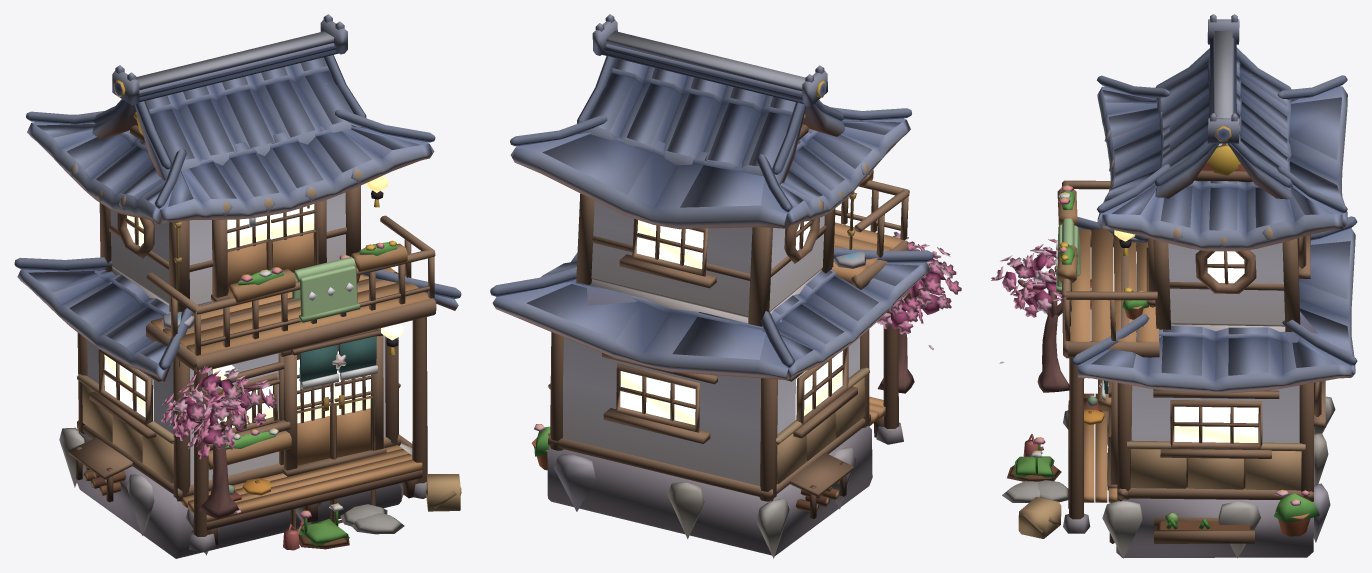
The model's file is home-3-v7.glb.
3 renders of one model, left to right at view 1: azimuth 30°, elevation 25°; view 2: azimuth 150°, elevation 25°; view 3: azimuth 270°, elevation 25°, orthographic. The views are drawn at different scales.
Visible parts, largest first — view 1: home-3-v7, window_glow; view 2: home-3-v7, window_glow; view 3: home-3-v7, window_glow.
Boxes of the visible parts, x1=… form: home-3-v7: x1=14, y1=14, x2=461, y2=558; window_glow: x1=104, y1=175, x2=403, y2=427; home-3-v7: x1=490, y1=14, x2=961, y2=558; window_glow: x1=620, y1=220, x2=842, y2=424; home-3-v7: x1=991, y1=14, x2=1357, y2=558; window_glow: x1=1090, y1=230, x2=1258, y2=442.
Bounding box in the file's own units: 3.35 × 4.62 × 3.5.
